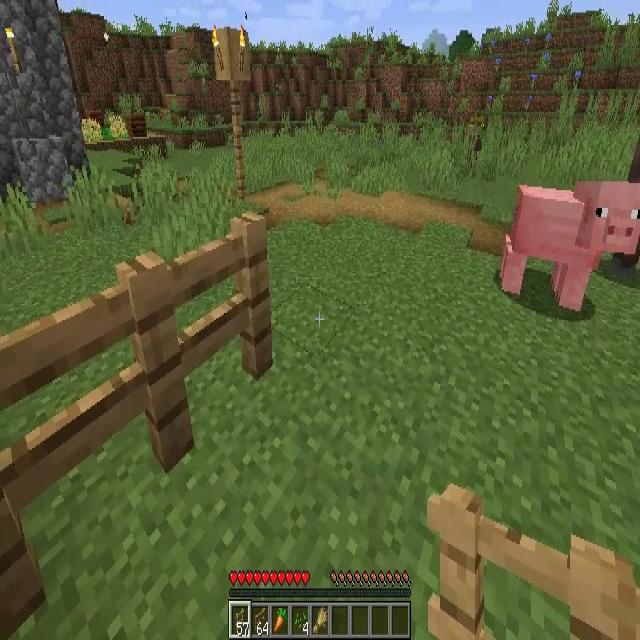pig: (502, 178, 640, 313)
